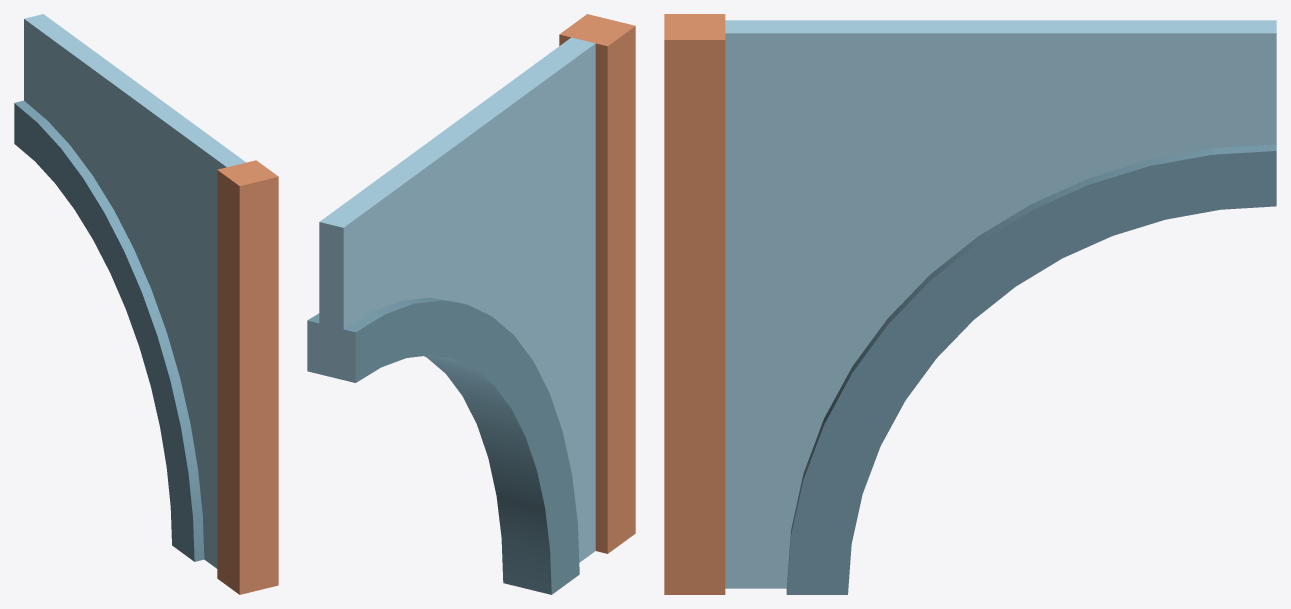
Rendered from wallArchTop.obj.
The picture shows the model from 3 angles, left to right: view 1: azimuth 30°, elevation 25°; view 2: azimuth 150°, elevation 25°; view 3: azimuth 270°, elevation 25°; orthographic projection. The views are drawn at different scales.
Visible parts, largest first — view 1: wallArchTop; view 2: wallArchTop; view 3: wallArchTop.
Part boxes in pixels (x1,y1,x2,y2): wallArchTop: (14,14,278,594); wallArchTop: (307,14,635,594); wallArchTop: (664,14,1276,594).
Bounding box in the file's own units: 0.1 × 1 × 1.
